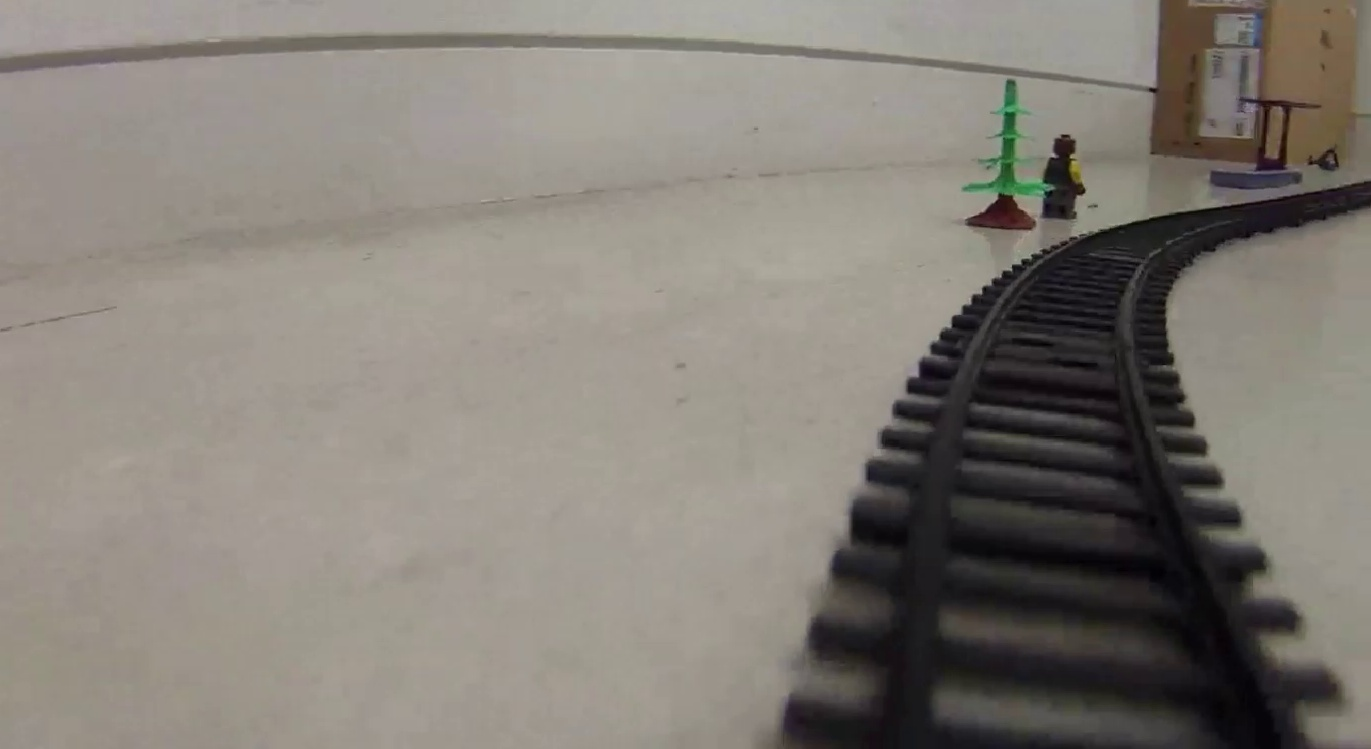people: (1044, 134, 1085, 220)
tree: (958, 76, 1049, 235)
